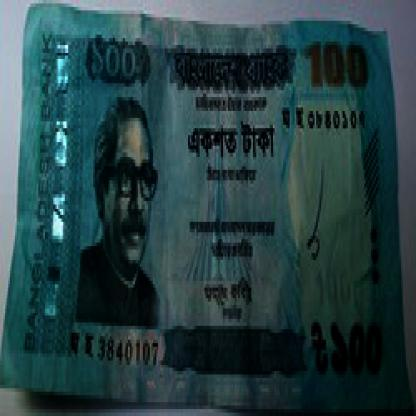one hundred taka: (326, 305, 390, 385), (301, 35, 370, 97), (82, 28, 152, 86)
